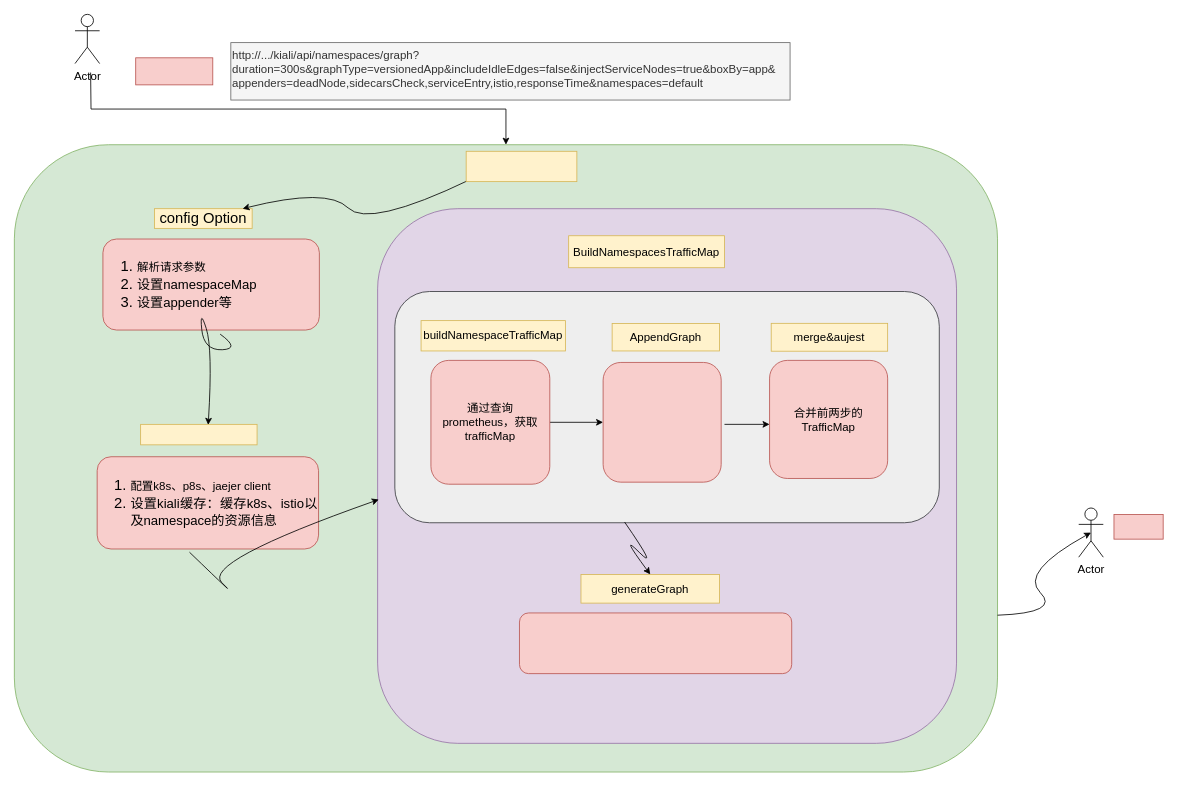
The diagram is 1178 pixels wide and 786 high, and some of its shapes have lost their labels. The shapes that lost their labels are listed below. From the top down, each one's box as (x1, y1, x2, y2) in pixels, then its label:
(135, 57, 213, 85): 发起请求
(465, 150, 577, 182): GraphNamespaces
(140, 424, 257, 445): config business
(602, 362, 721, 482): 通过Appender对TrafficMap做补充，如delete一些node，给一些node加标记
(1113, 514, 1163, 539): 绘图
(519, 612, 792, 674): 将TrafficMap转换为cytoscape类型json数据
